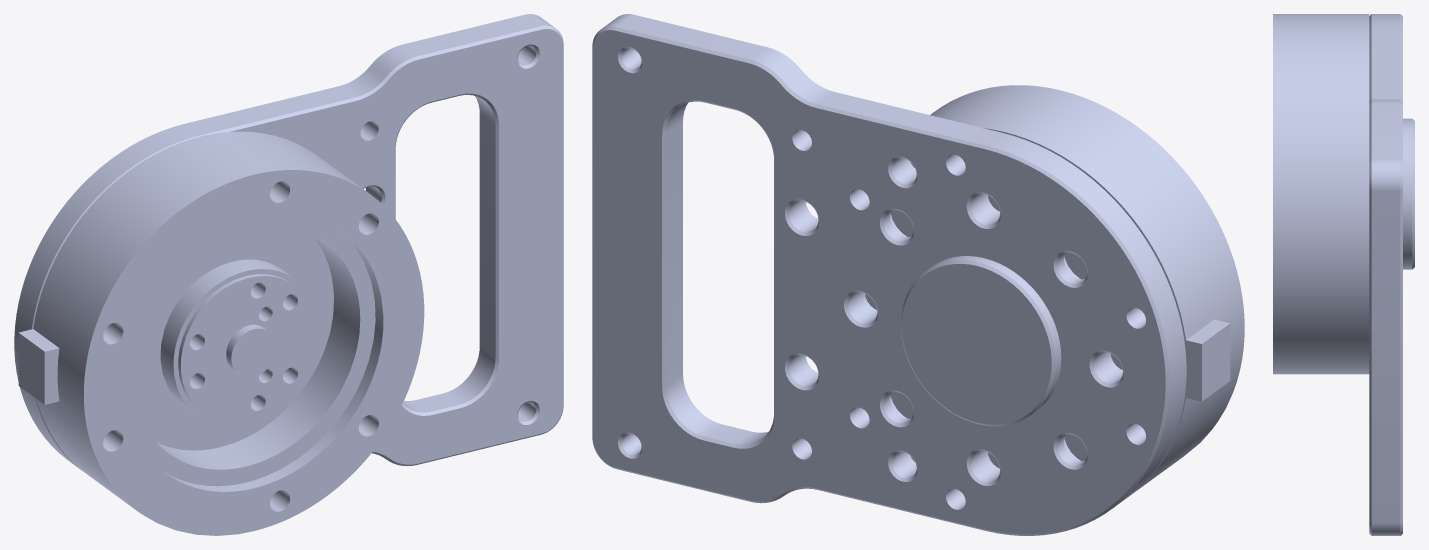
The model's file is ft_sensor.glb.
3 renders of one model, left to right at view 1: azimuth 30°, elevation 25°; view 2: azimuth 150°, elevation 25°; view 3: azimuth 270°, elevation 25°, orthographic. The views are drawn at different scales.
Visible parts, largest first — view 1: g0; view 2: g0; view 3: g0.
Boxes of the visible parts, left/top/right/bottom form: g0: left=14, top=14, right=563, bottom=535; g0: left=592, top=14, right=1244, bottom=535; g0: left=1273, top=14, right=1414, bottom=535.
Bounding box in the file's own units: 0.1203 × 0.086 × 0.0295.
